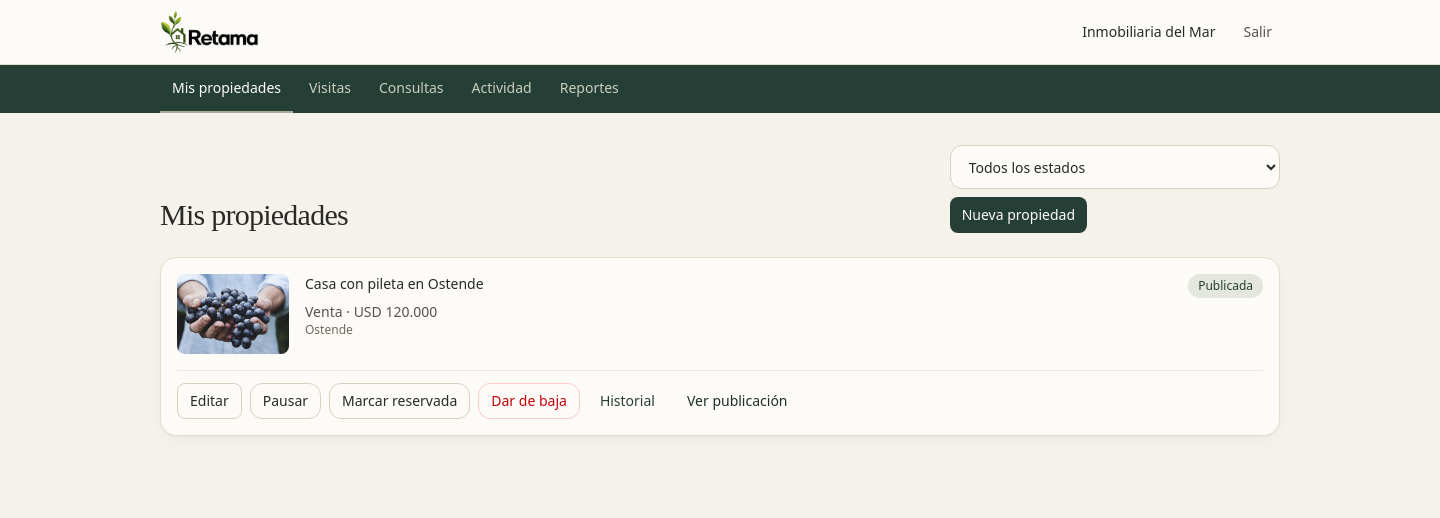
Test: ciclo de vida de la propiedad › muestra el historial de estados de la propiedad
The image size is (1440, 518).
What coordinates should you click on to do the following:
click the button "Historial"
I would click on:
 (627, 401)
Its box is [588,383,667,419].
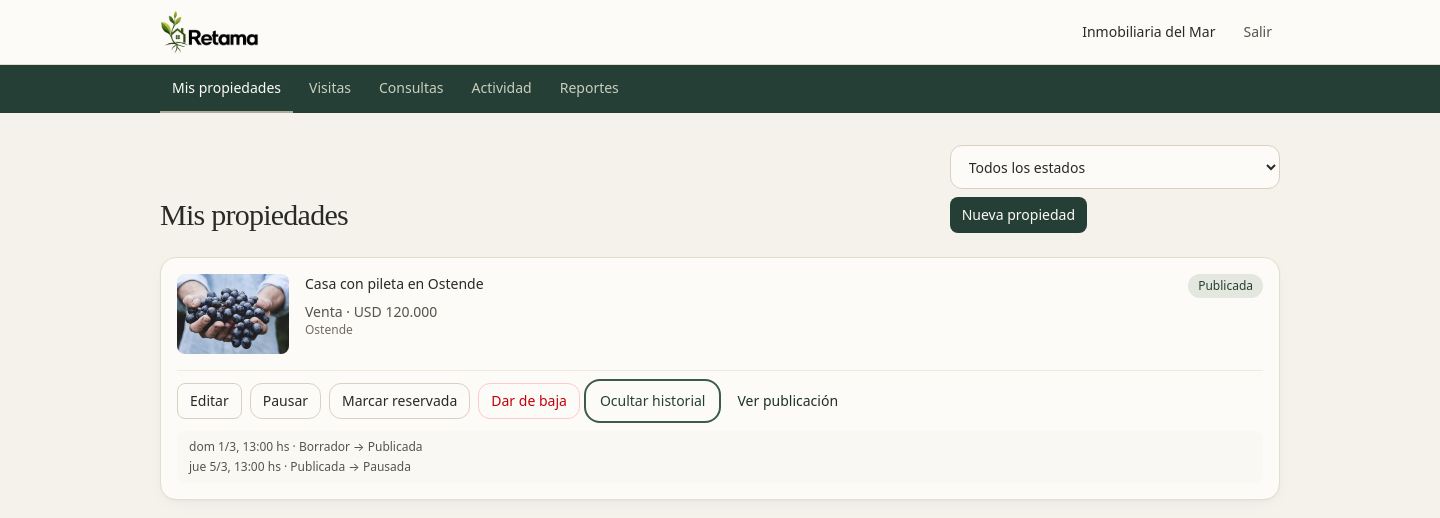
What coordinates should you click on to do the following:
click the button "Ocultar historial"
I would click on:
 (653, 401)
Its box is [588,383,718,419].
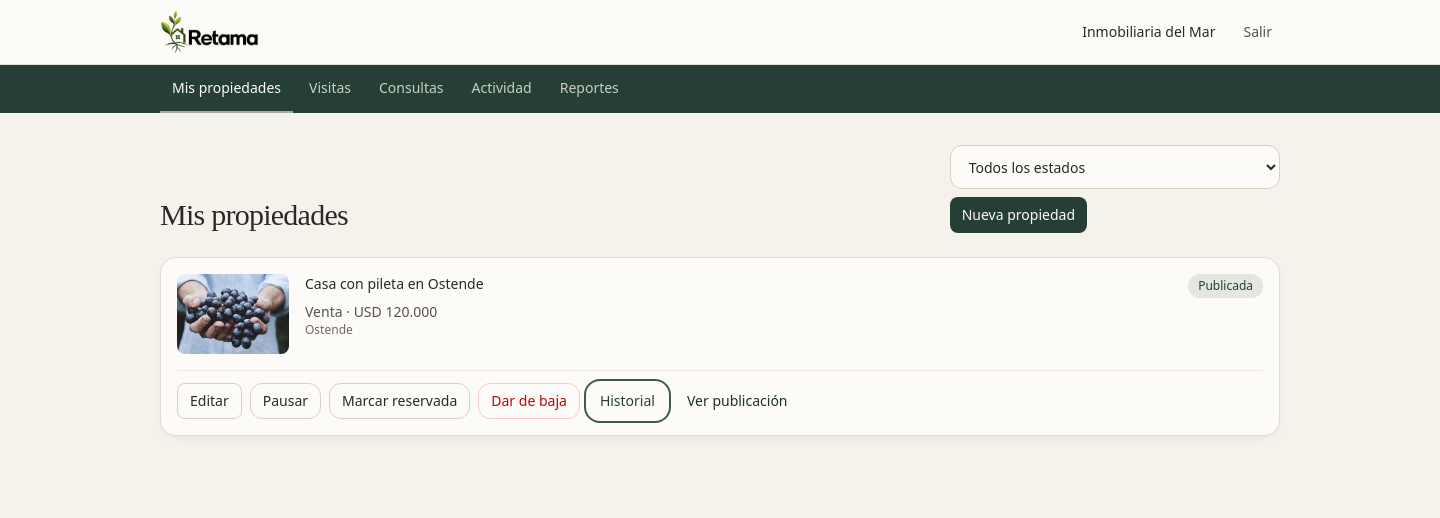
Check: the list item "Borrador → Publicada" is gone
